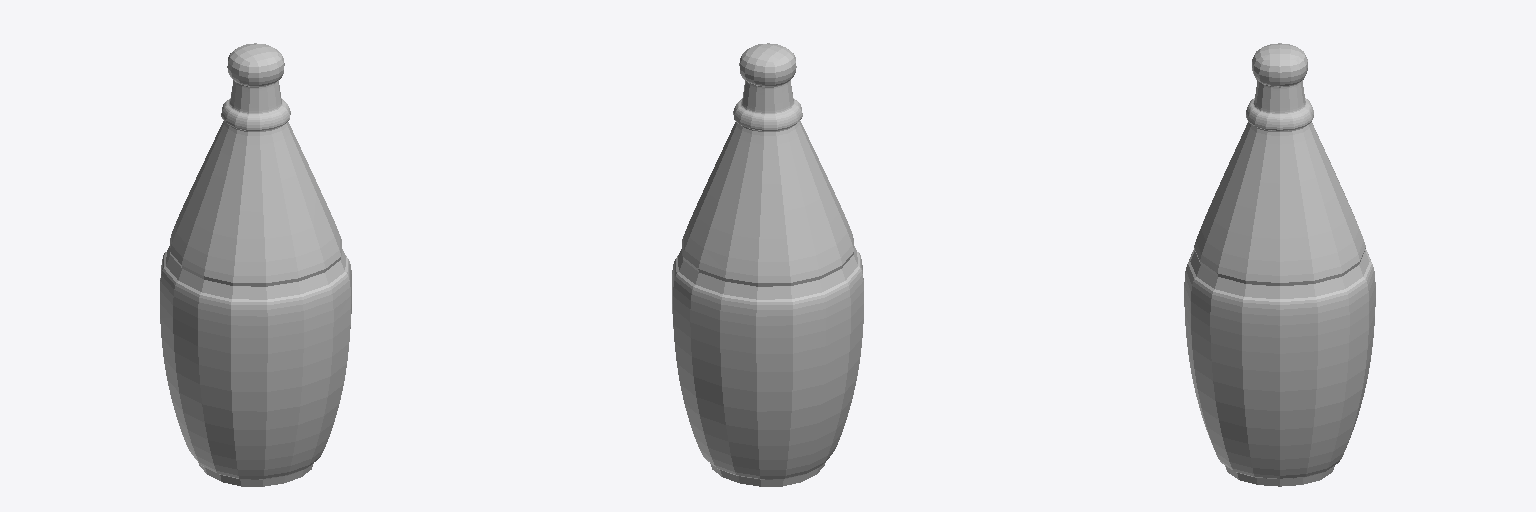
The model's file is SetA_PotionBottle_Style_04.obj.
3 views of the same model, side by side, from view 1: azimuth 30°, elevation 25°; view 2: azimuth 150°, elevation 25°; view 3: azimuth 270°, elevation 25° (orthographic).
Visible parts, largest first — view 1: SetA_PotionBottle_Style_04; view 2: SetA_PotionBottle_Style_04; view 3: SetA_PotionBottle_Style_04.
Part boxes in pixels (x1,y1,x2,y2): SetA_PotionBottle_Style_04: (160, 43, 351, 486); SetA_PotionBottle_Style_04: (672, 43, 863, 486); SetA_PotionBottle_Style_04: (1184, 43, 1375, 486).
Bounding box in the file's own units: 0.0194 × 0.0465 × 0.0194.